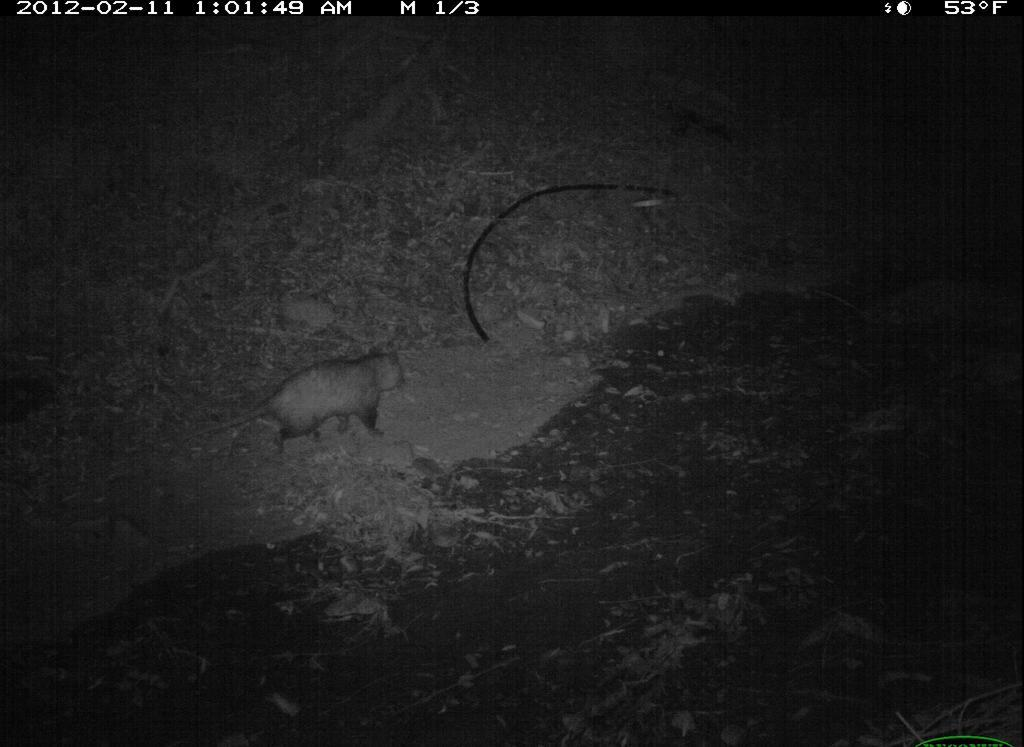opossum: (196, 338, 417, 459)
